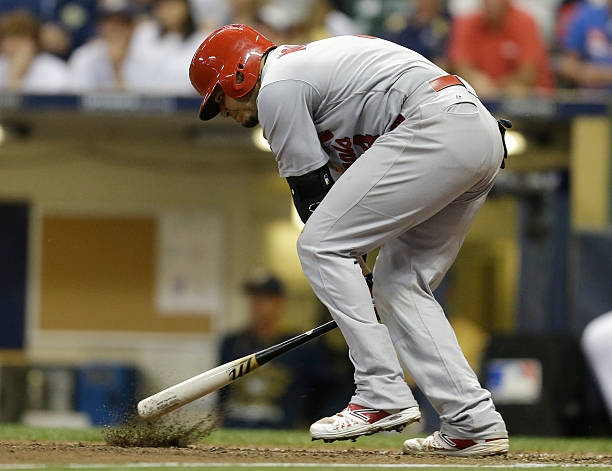bita: (136, 302, 357, 416)
